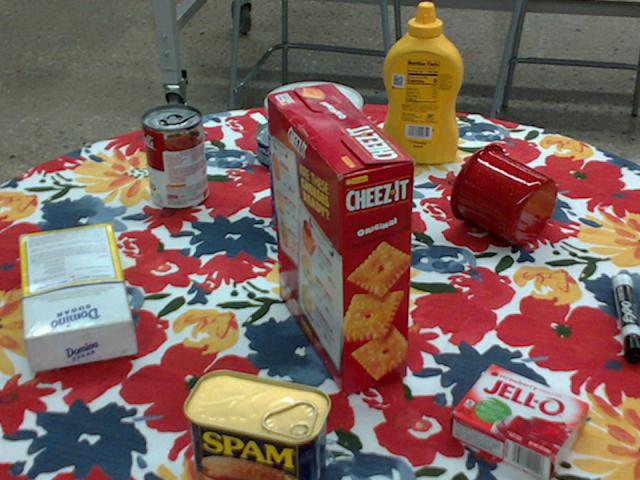cracker_box: (266, 86, 410, 396)
gelatin_box: (449, 363, 588, 478)
large_marker: (612, 271, 639, 359)
master_chef_can: (264, 80, 362, 237)
mug: (449, 143, 556, 244)
mustard_bottle: (381, 3, 461, 163)
potted_meat_can: (180, 372, 327, 479)
sugar_box: (21, 226, 135, 370)
tomato_soup_can: (141, 104, 206, 210)
tuna_fish_can: (256, 119, 324, 171)
